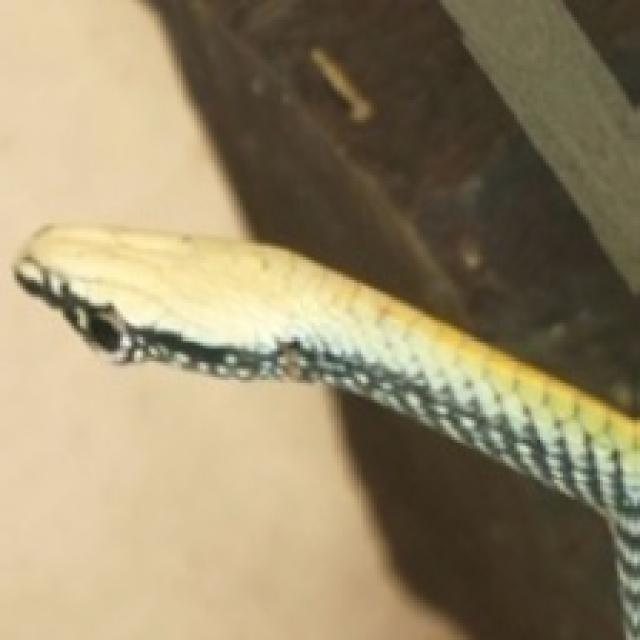paradise tree snake: (14, 226, 637, 637)
